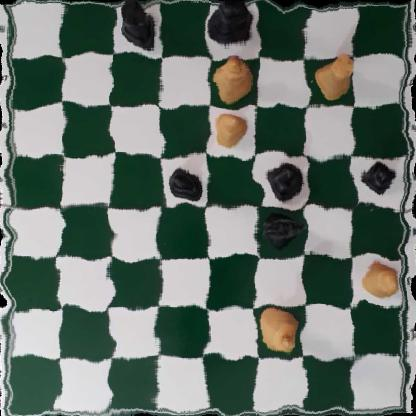black-king: (211, 0, 255, 52)
black-knight: (262, 212, 303, 248)
black-pawn: (265, 158, 302, 202), (356, 160, 396, 193), (170, 165, 204, 201)
black-rook: (116, 0, 160, 51)
white-bishop: (213, 59, 254, 99)
white-king: (256, 305, 301, 351)
white-pawn: (360, 262, 400, 299), (210, 108, 245, 149)
white-rook: (312, 52, 356, 101)
